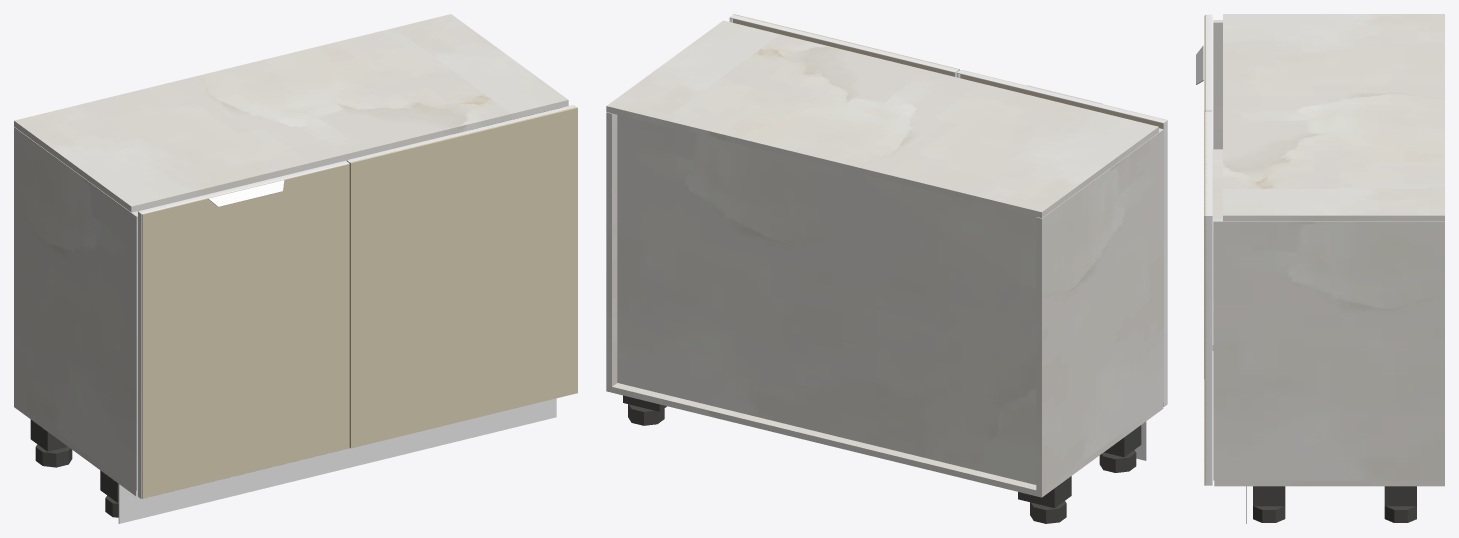
File: S550_BBC1S1HS_RH_EH (H720xW1150xD560).glb
The picture shows the model from 3 angles, left to right: view 1: azimuth 30°, elevation 25°; view 2: azimuth 150°, elevation 25°; view 3: azimuth 270°, elevation 25°; orthographic projection. The views are drawn at different scales.
Size of what is drawn, in the model's own units: 1.15 by 0.82 by 0.5999.
5 materials, 1 textured.
